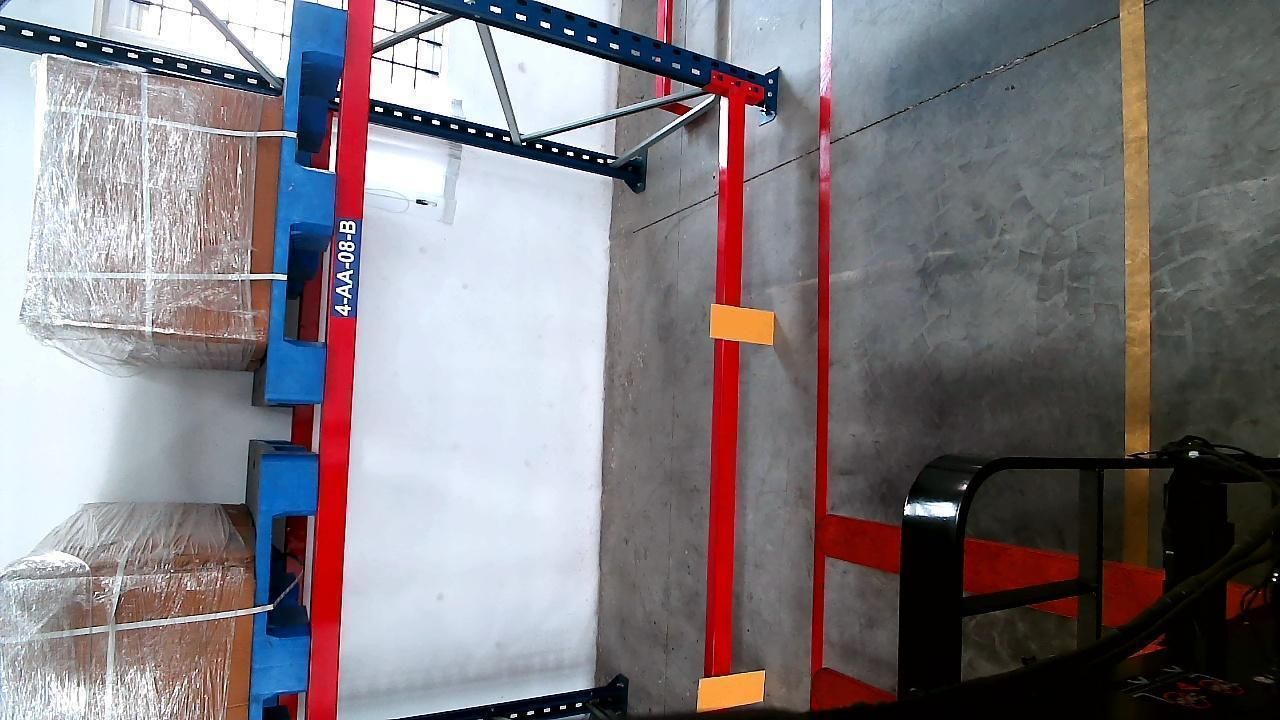red_line: (812, 62, 835, 670)
yellow_line: (1121, 0, 1153, 516)
